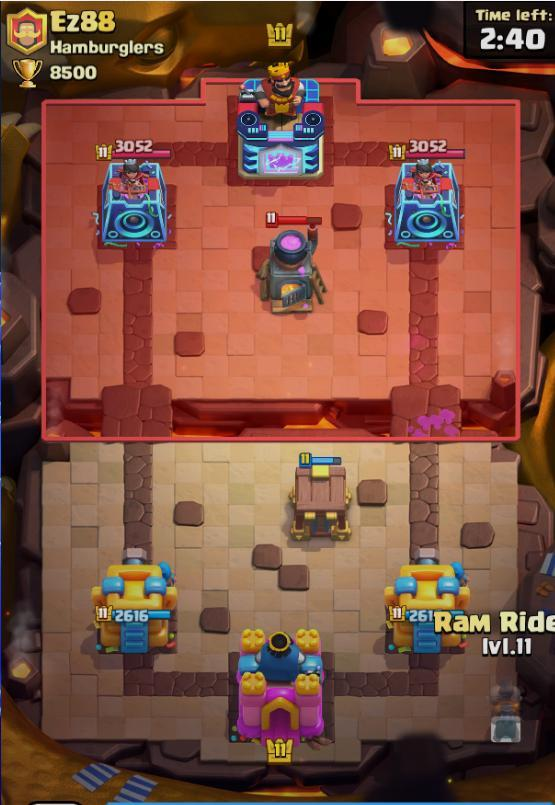EKingTower: (237, 63, 324, 179)
EnemyPrincessTower: (387, 149, 464, 248), (96, 150, 170, 246)
OCannoneerTower: (92, 549, 176, 653), (385, 549, 469, 653)
OGoblinCage: (290, 453, 350, 539)
ORamrider: (490, 682, 521, 743)
OwnKingTower: (230, 630, 324, 746)
